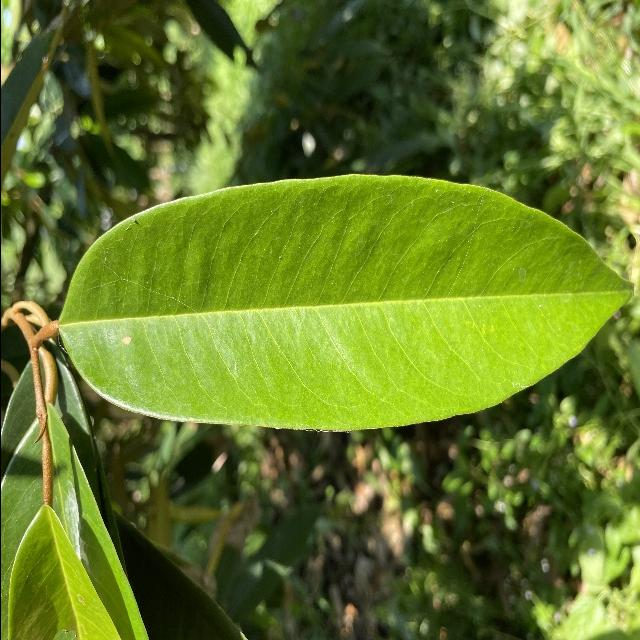No Disease: (49, 165, 640, 437)
